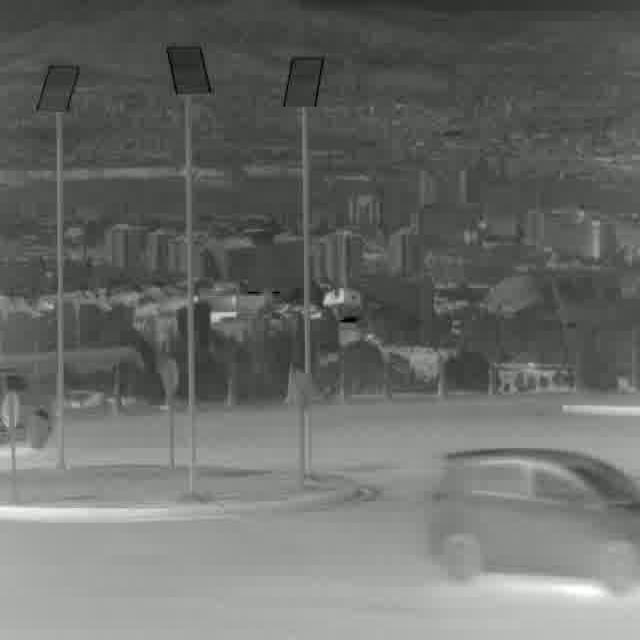Car: (430, 449, 640, 582), (0, 366, 52, 451)
